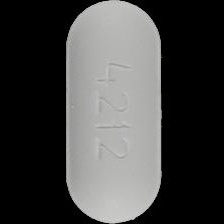10544-956: (0, 0, 224, 224)
